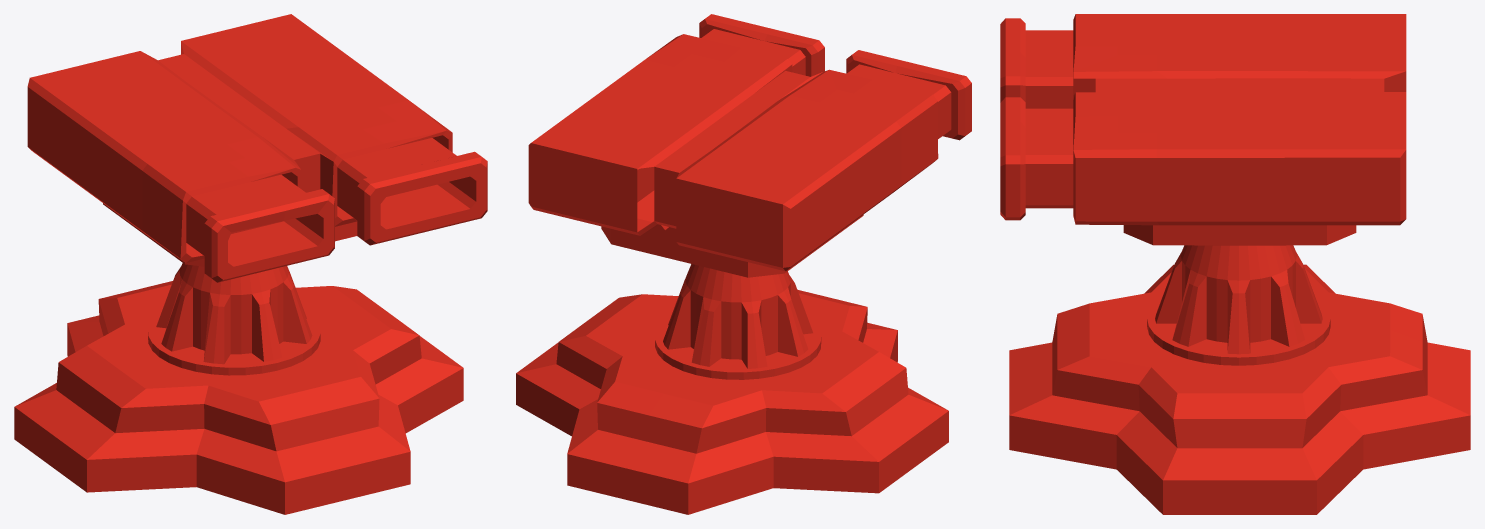
The model's file is ENEMY_TurretHeavy_00_2023-10-28.fbx.
3 renders of one model, left to right at view 1: azimuth 30°, elevation 25°; view 2: azimuth 150°, elevation 25°; view 3: azimuth 270°, elevation 25°, orthographic. The views are drawn at different scales.
Parts seen in each view (by area): view 1: HT; view 2: HT; view 3: HT.
Boxes of the visible parts, x1,y1,x2,y2 form: HT: [14, 14, 487, 514]; HT: [516, 14, 971, 514]; HT: [1000, 14, 1470, 514].
Size of the model in its own units: 273 by 220 by 279.
